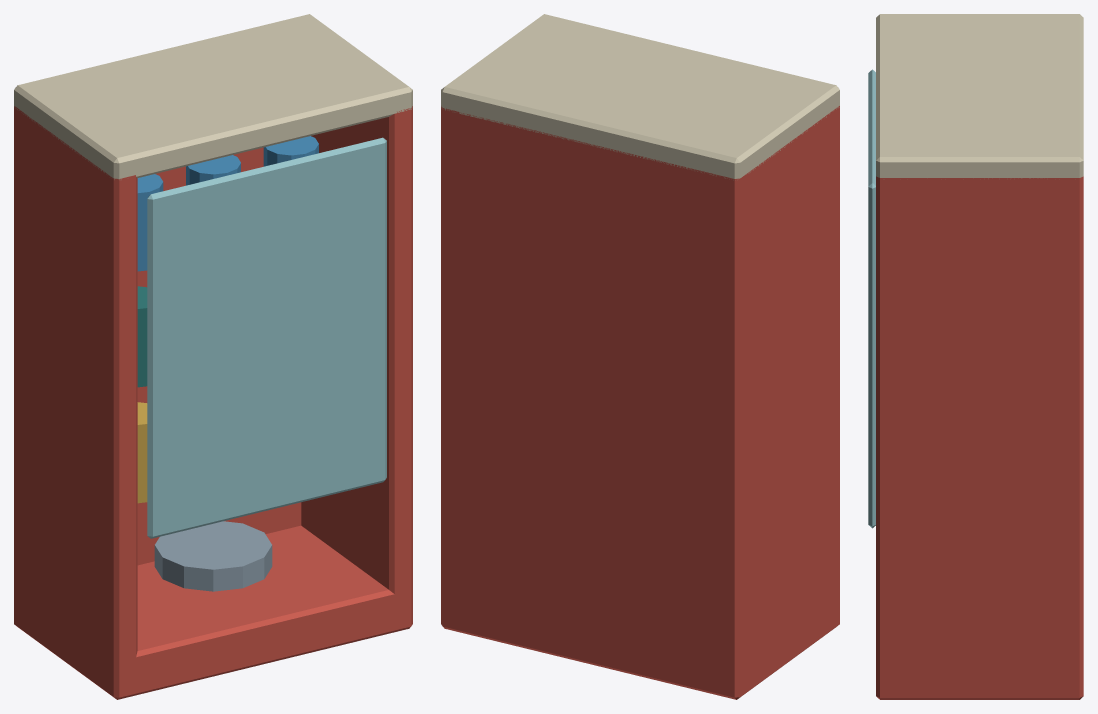
Rendered from vending.glb.
3 renders of one model, left to right at view 1: azimuth 30°, elevation 25°; view 2: azimuth 150°, elevation 25°; view 3: azimuth 270°, elevation 25°, orthographic.
Visible parts, largest first — view 1: Base, Target0, Remnant0, Target3, Target1, Target2; view 2: Base; view 3: Base, Target0.
Part boxes in pixels (box(x1,y1,x2,y2)): Base: box(14, 14, 412, 699); Target0: box(147, 137, 386, 538); Remnant0: box(154, 521, 272, 591); Target3: box(137, 136, 318, 271); Target1: box(137, 402, 147, 503); Target2: box(137, 286, 147, 387); Base: box(441, 14, 839, 699); Base: box(876, 14, 1083, 699); Target0: box(868, 69, 875, 528).
Bounding box in the file's own units: 1 × 1.73 × 0.6225.
